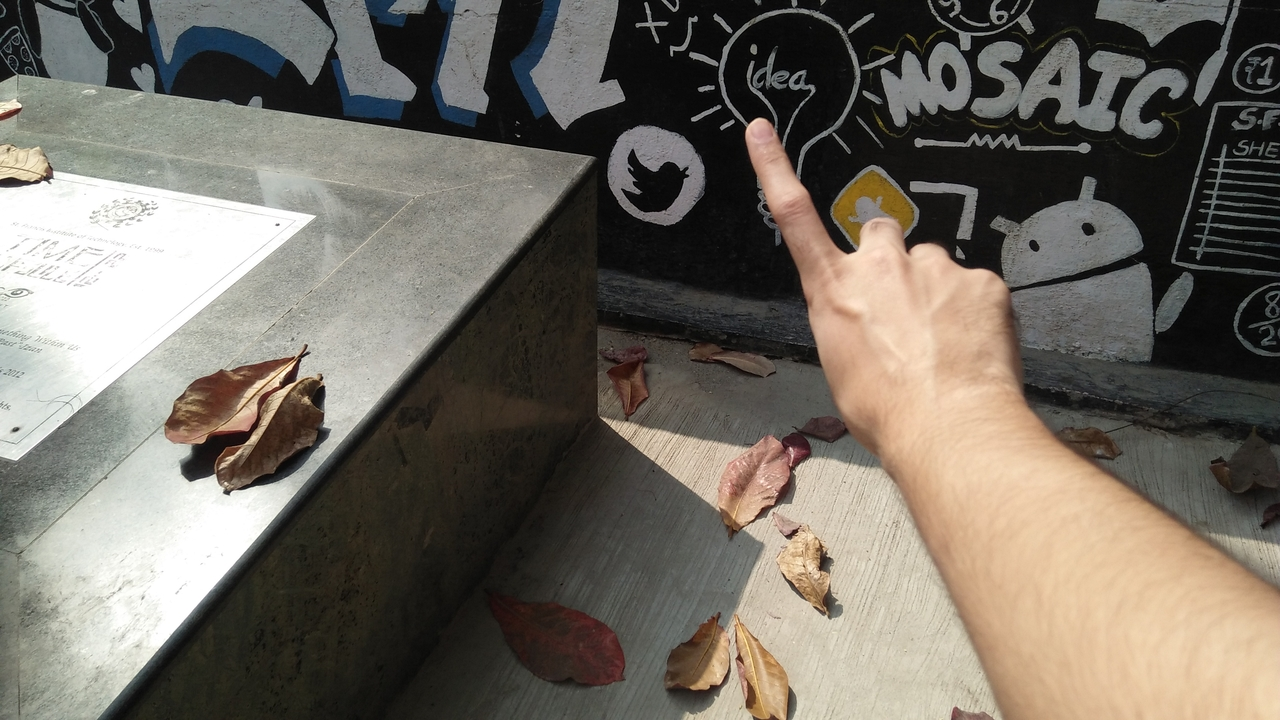fingertip: (732, 102, 798, 166)
